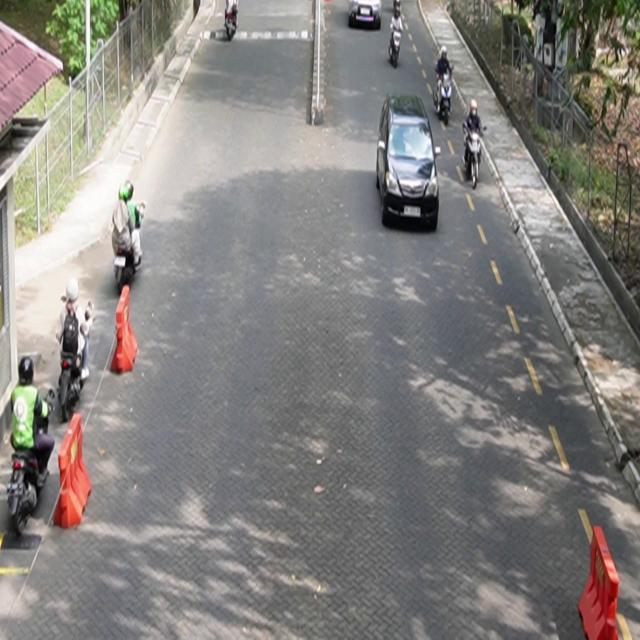car: (376, 94, 442, 232), (349, 1, 383, 31)
